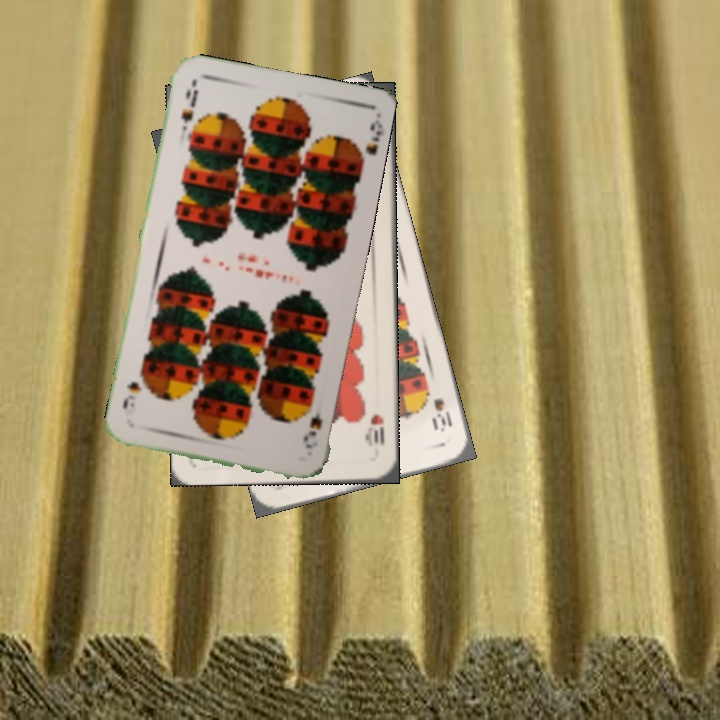H10: (363, 410, 387, 449)
S10: (429, 394, 455, 435)
S9: (176, 79, 201, 137), (299, 406, 325, 452)
